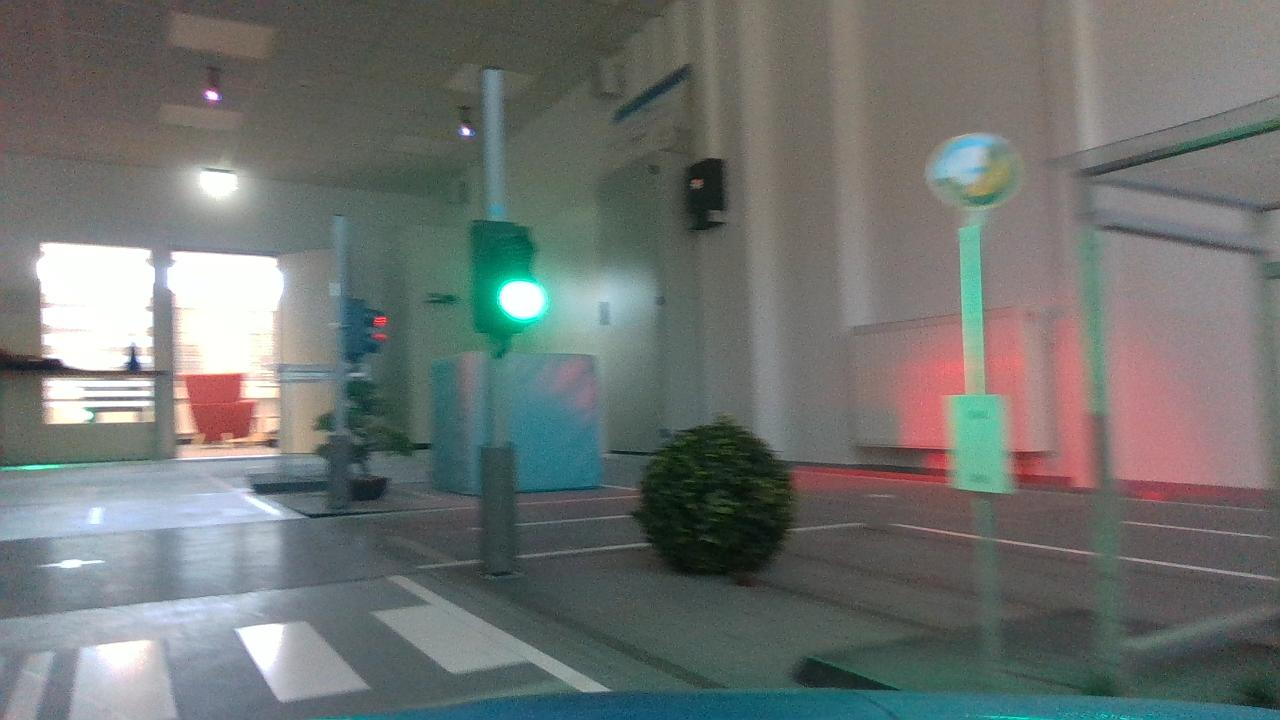traffic_light_green: (458, 209, 553, 346)
